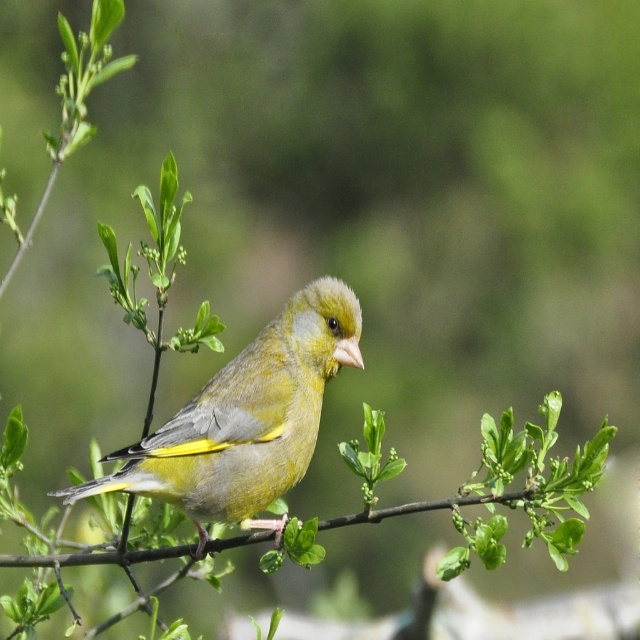Canary: (46, 276, 364, 557)
